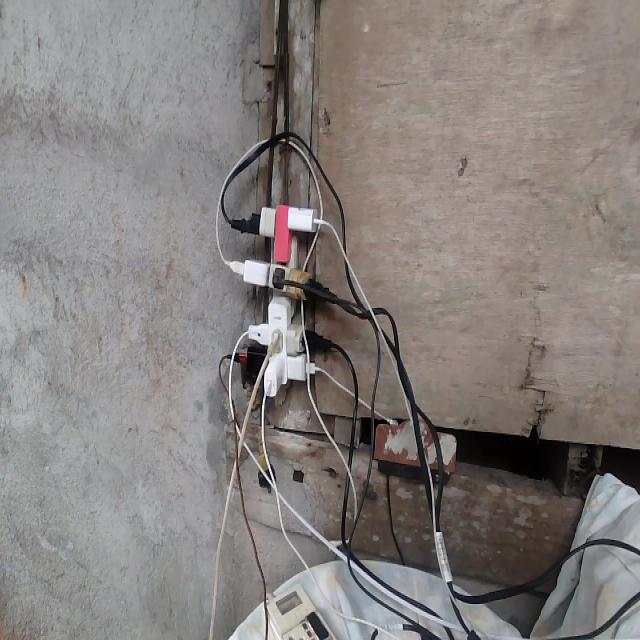-: (224, 204, 333, 397)
